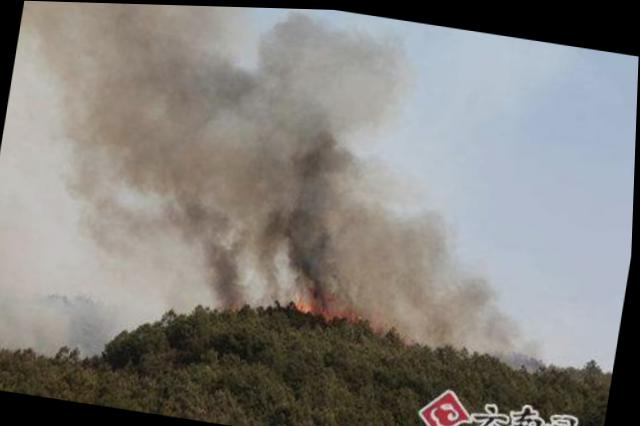fire: (290, 278, 374, 321)
